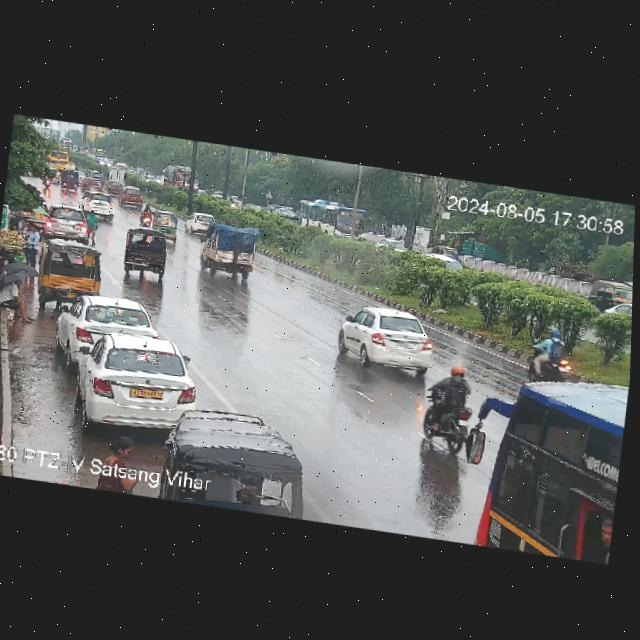bus: (460, 348, 631, 564), (293, 194, 370, 238)
car: (157, 399, 320, 488), (75, 323, 201, 437), (333, 296, 438, 380), (49, 285, 153, 365), (39, 242, 102, 309), (118, 225, 175, 281), (45, 205, 90, 244), (78, 187, 120, 221), (150, 212, 182, 246), (418, 250, 468, 267), (185, 209, 212, 238), (115, 186, 147, 210), (57, 167, 84, 194), (374, 234, 407, 251), (81, 175, 101, 192), (105, 179, 123, 195)
motorcycle: (417, 363, 474, 457), (522, 321, 581, 387), (138, 201, 154, 229)
person: (0, 264, 40, 327), (100, 430, 141, 466), (23, 223, 41, 271), (84, 208, 103, 247)
truck: (194, 222, 258, 282), (161, 162, 199, 195)
